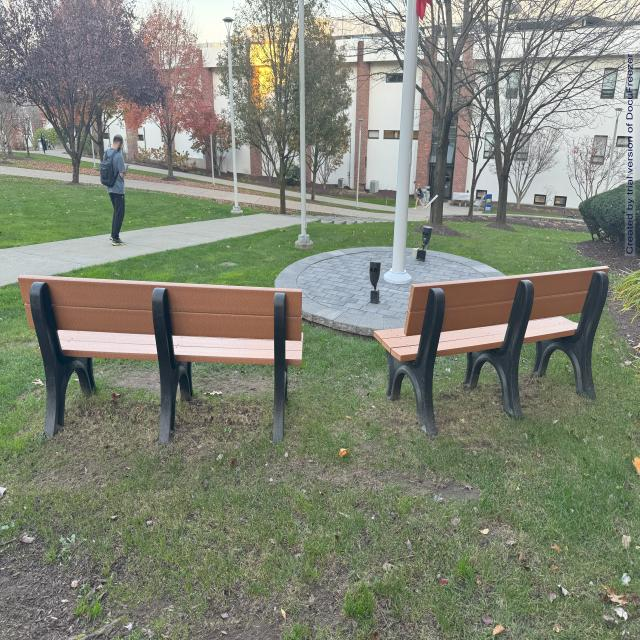chair: (5, 256, 313, 482), (380, 253, 621, 445)
